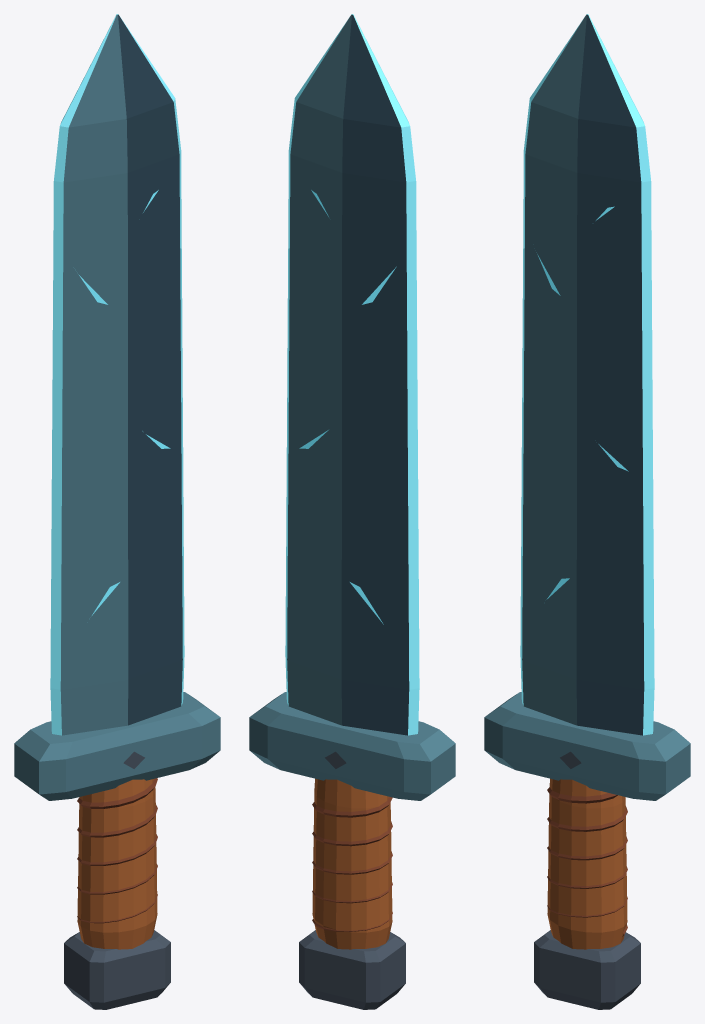
File: e8e-sword-warden-finish.glb
3 renders of one model, left to right at view 1: azimuth 30°, elevation 25°; view 2: azimuth 150°, elevation 25°; view 3: azimuth 330°, elevation 25°, orthographic.
Visible parts, largest first — view 1: WSC-GEAR-001 Sword | Inventory pivot; view 2: WSC-GEAR-001 Sword | Inventory pivot; view 3: WSC-GEAR-001 Sword | Inventory pivot.
Part boxes in pixels (x1,y1,x2,y2): WSC-GEAR-001 Sword | Inventory pivot: (14, 14, 220, 1009); WSC-GEAR-001 Sword | Inventory pivot: (249, 14, 455, 1009); WSC-GEAR-001 Sword | Inventory pivot: (484, 14, 690, 1009).
Size of the model in its own units: 0.214 by 1.1 by 0.07.
